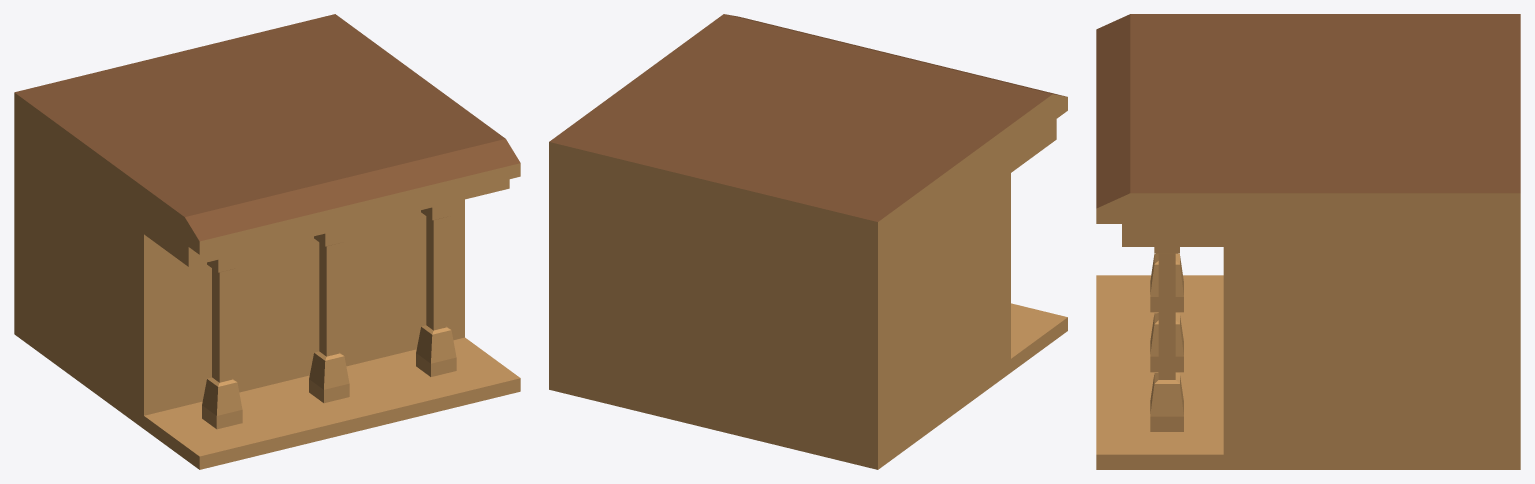
The model's file is india-hindu-wall-interior-side.glb.
3 renders of one model, left to right at view 1: azimuth 30°, elevation 25°; view 2: azimuth 150°, elevation 25°; view 3: azimuth 270°, elevation 25°, orthographic. The views are drawn at different scales.
Parts seen in each view (by area): view 1: hindu-wall-interior-side; view 2: hindu-wall-interior-side; view 3: hindu-wall-interior-side.
Boxes of the visible parts, left/top/right/bottom form: hindu-wall-interior-side: left=14, top=14, right=520, bottom=469; hindu-wall-interior-side: left=549, top=14, right=1067, bottom=469; hindu-wall-interior-side: left=1096, top=14, right=1520, bottom=469.
Bounding box in the file's own units: 5 × 3.6 × 5.
